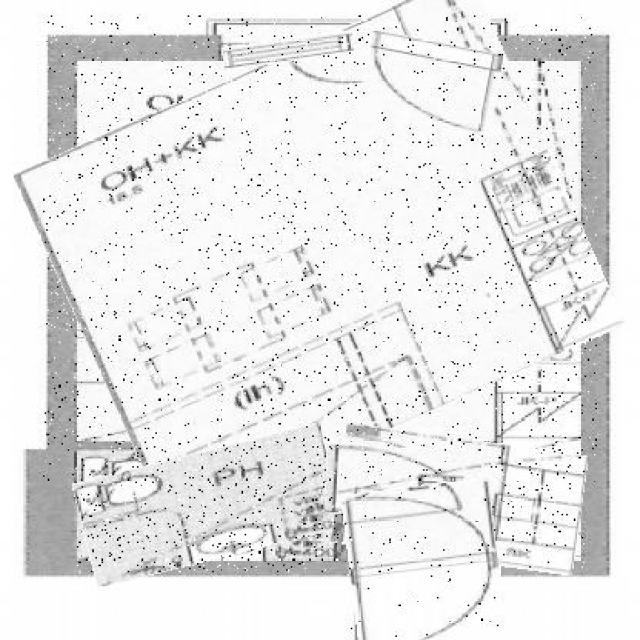door: (346, 481, 501, 640), (362, 37, 500, 132), (324, 446, 488, 520)
window: (223, 36, 354, 66)
zone: (43, 15, 597, 483), (77, 438, 340, 572), (336, 432, 584, 568)
